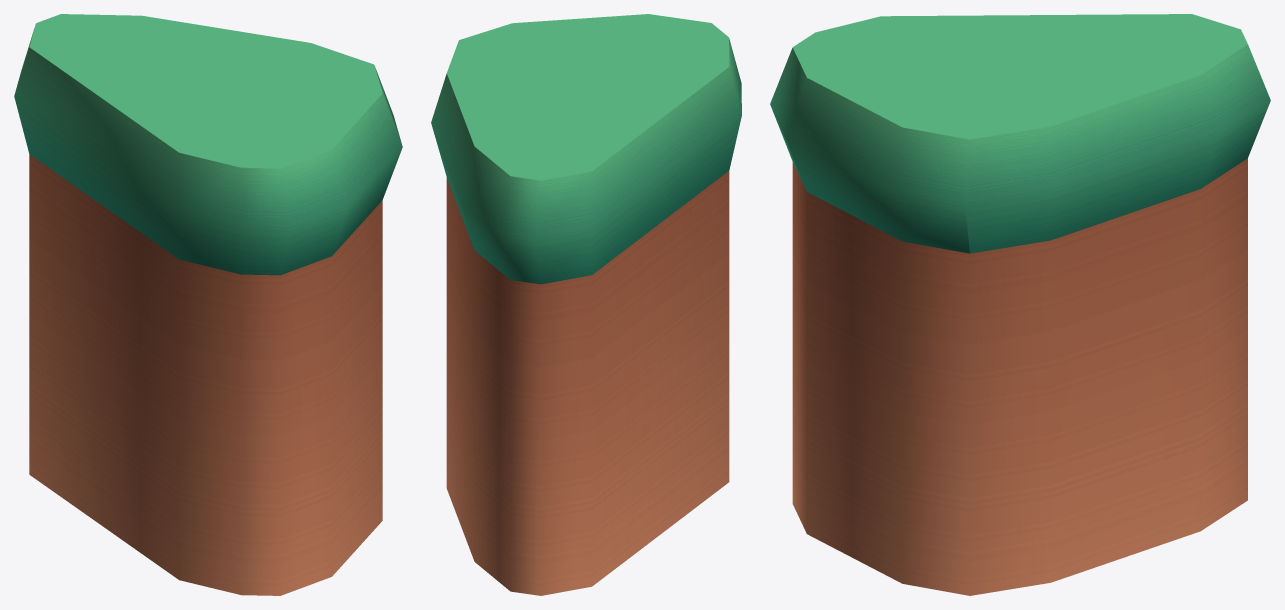
The model's file is block-grass-corner.005_lev2.glb.
The picture shows the model from 3 angles, left to right: view 1: azimuth 30°, elevation 25°; view 2: azimuth 150°, elevation 25°; view 3: azimuth 270°, elevation 25°; orthographic projection. The views are drawn at different scales.
Visible parts, largest first — view 1: block-grass-corner.005_lev2; view 2: block-grass-corner.005_lev2; view 3: block-grass-corner.005_lev2.
Boxes of the visible parts, bbox=[...] form: block-grass-corner.005_lev2: bbox=[14, 14, 402, 595]; block-grass-corner.005_lev2: bbox=[431, 14, 741, 595]; block-grass-corner.005_lev2: bbox=[770, 14, 1270, 595].
Size of the model in its own units: 2.93 by 4.52 by 4.49.
1 material, 1 textured.
